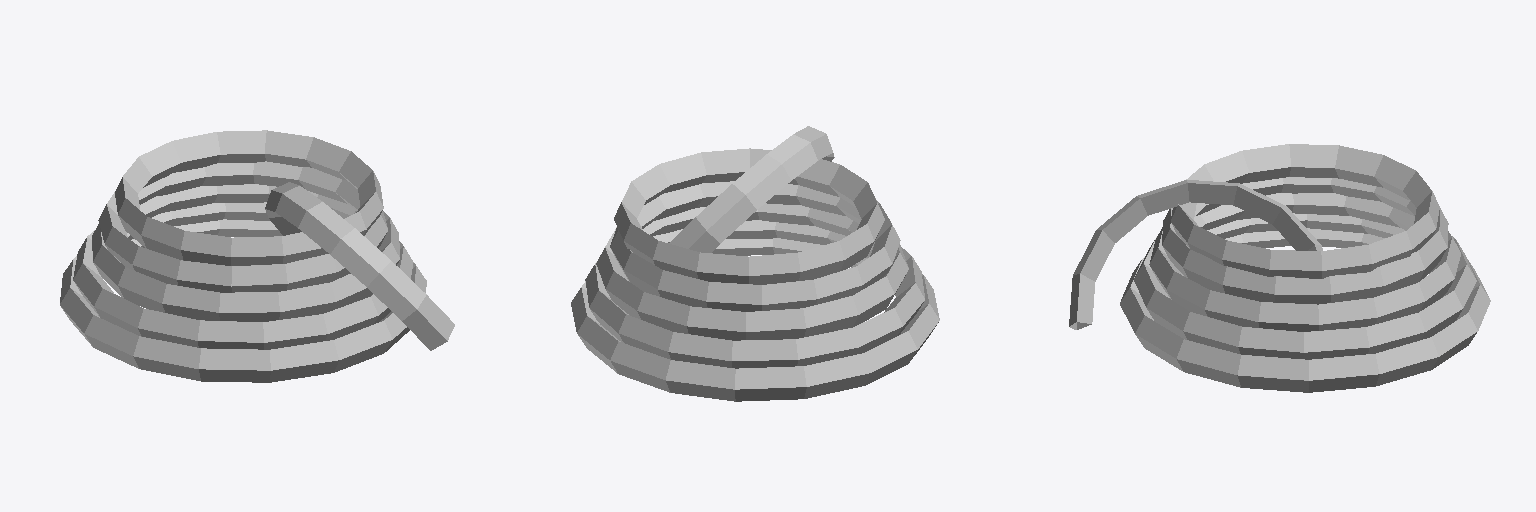
File: Seilrolle.obj
3 views of the same model, side by side, from view 1: azimuth 30°, elevation 25°; view 2: azimuth 150°, elevation 25°; view 3: azimuth 270°, elevation 25° (orthographic).
Parts seen in each view (by area): view 1: Cylinder.008, Cylinder.005, Cylinder.007, Cylinder.006, Cylinder.009, Cylinder.010; view 2: Cylinder.008, Cylinder.005, Cylinder.009, Cylinder.006, Cylinder.007, Cylinder.010; view 3: Cylinder.008, Cylinder.005, Cylinder.006, Cylinder.009, Cylinder.007, Cylinder.010.
Part boxes in pixels (x1,y1,x2,y2): Cylinder.008: (115,130,383,265); Cylinder.005: (60,219,426,382); Cylinder.007: (98,161,387,292); Cylinder.006: (92,184,399,321); Cylinder.009: (73,202,413,349); Cylinder.010: (265,182,454,350); Cylinder.008: (614,148,884,284); Cylinder.005: (571,238,939,401); Cylinder.009: (585,220,924,368); Cylinder.006: (596,203,908,340); Cylinder.007: (610,181,900,311); Cylinder.010: (669,126,834,252); Cylinder.008: (1171,144,1439,278); Cylinder.005: (1120,228,1490,392); Cylinder.006: (1149,193,1460,331); Cylinder.009: (1134,213,1476,359); Cylinder.007: (1162,177,1448,304); Cylinder.010: (1069,180,1322,329).
Size of the model in its own units: 0.5076 by 0.2506 by 0.5767.